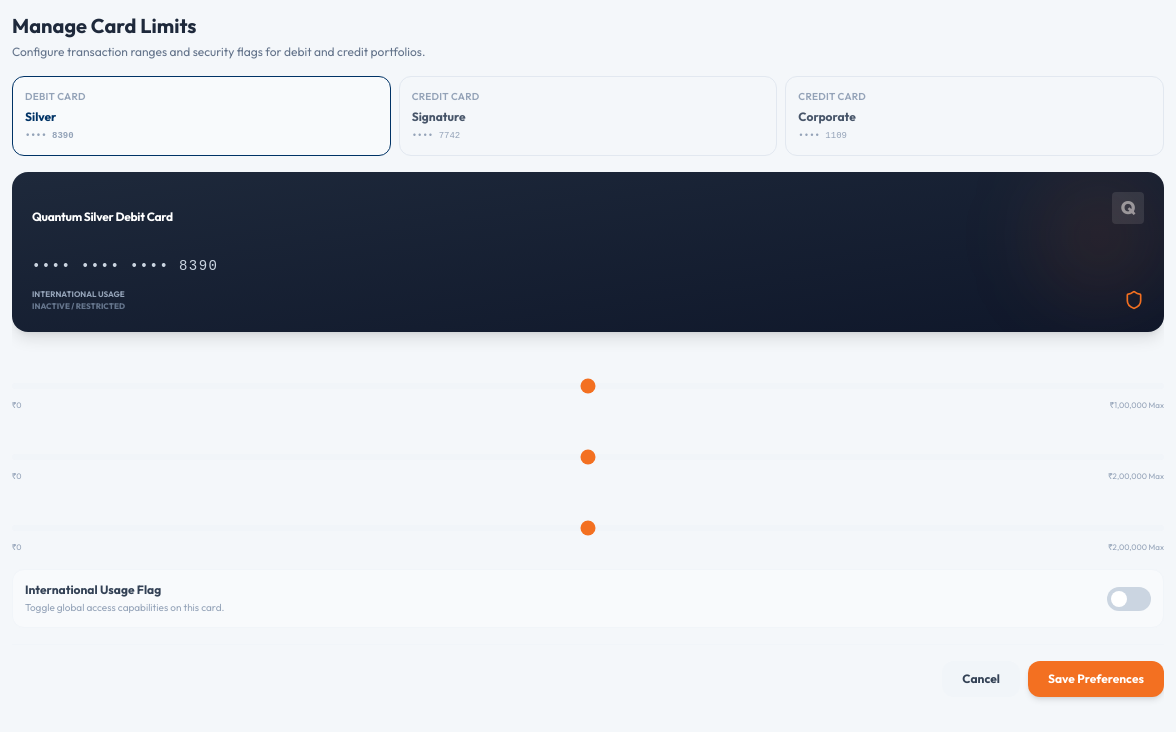
Test case: Service Requests Workflows & Modals Integration Tests › should adjust range values in ManageCardLimitsModal
Expected: the heading "Manage Card Limits" is shown, x1=12 y1=13 x2=196 y2=38
Toggle international usage flag
What coordinates should you click on to do the following:
click the button with class "inline-flex"
I would click on:
 (1129, 598)
Its box is x1=1107 y1=586 x2=1151 y2=610.
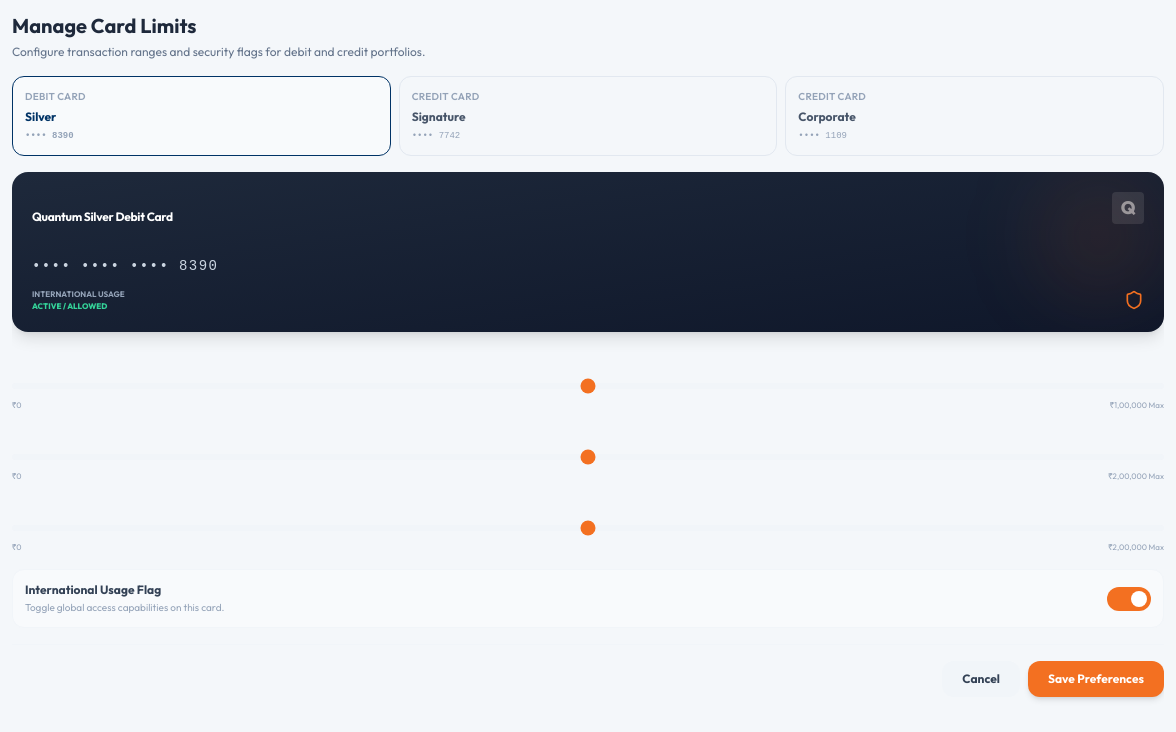
What coordinates should you click on to do the following:
click the button "Save Preferences"
I would click on:
 (1096, 679)
Its box is x1=1028 y1=661 x2=1164 y2=697.
Wait 1500 ms
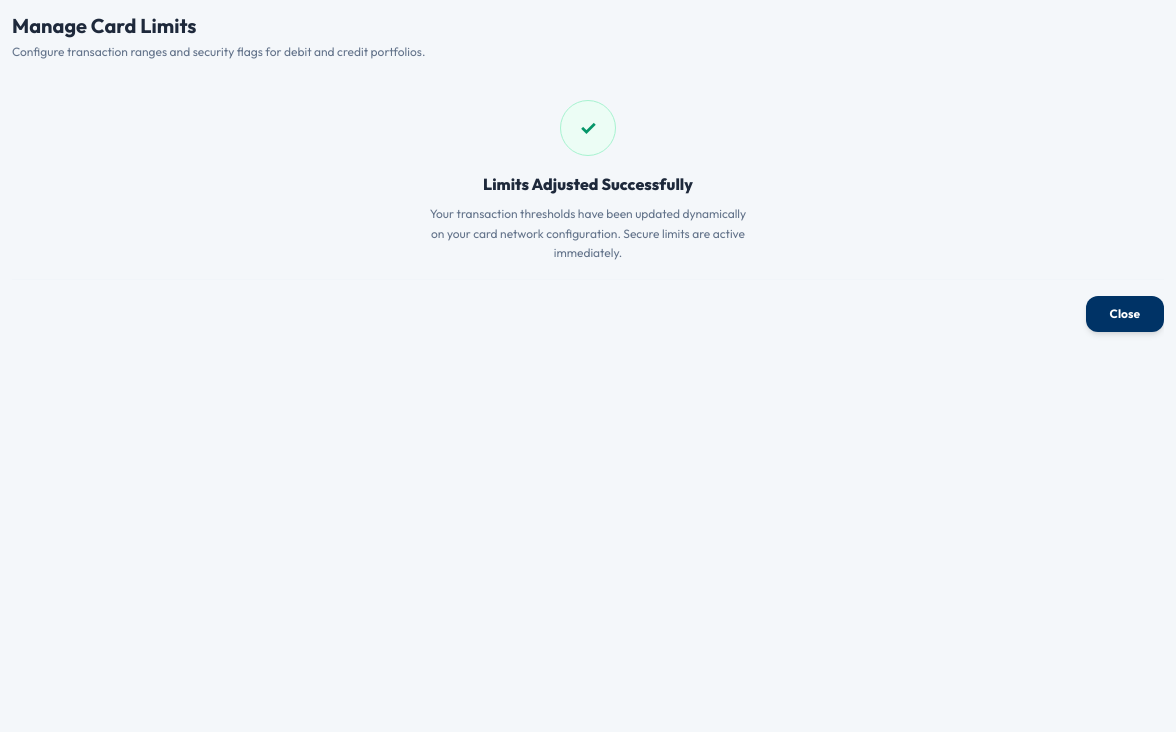
Expected: the heading "Limits Adjusted Successfully" is shown, x1=483 y1=174 x2=693 y2=194
